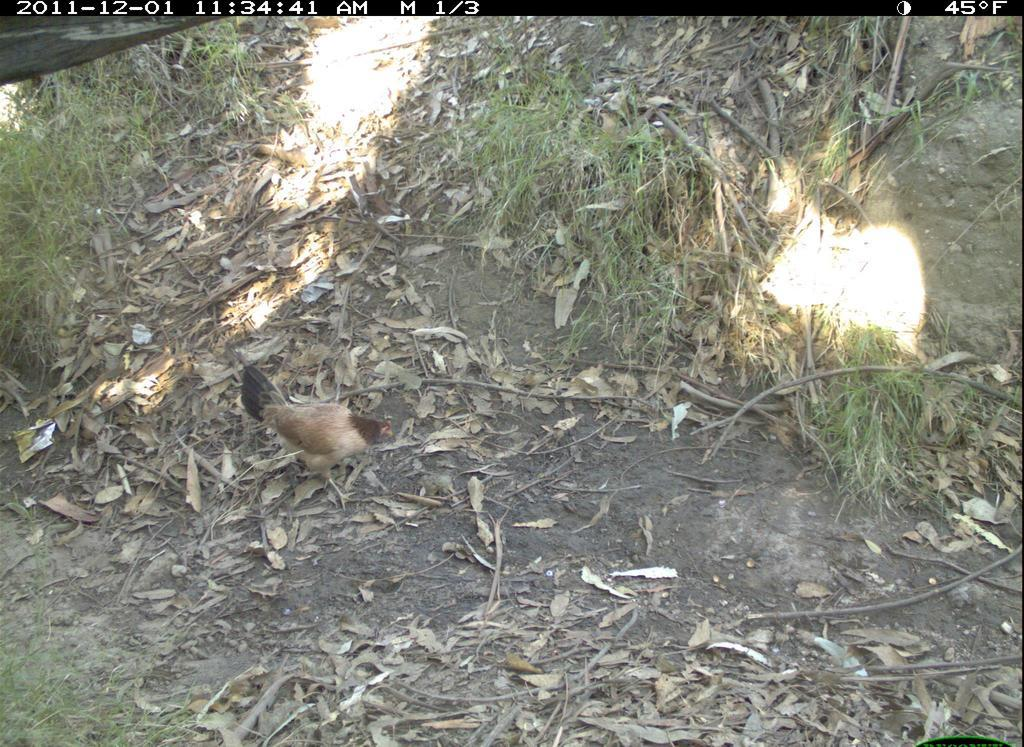bird: (223, 359, 402, 492)
